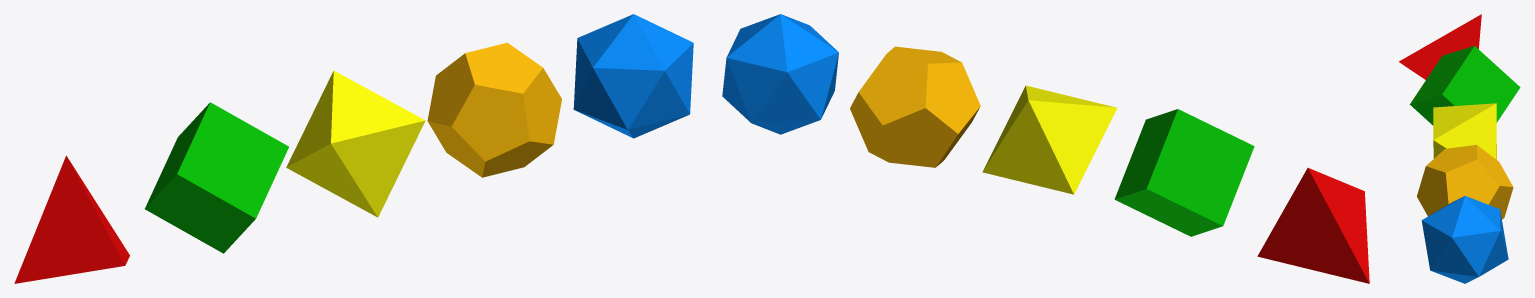
The model's file is Solides de platon.glb.
3 views of the same model, side by side, from view 1: azimuth 30°, elevation 25°; view 2: azimuth 150°, elevation 25°; view 3: azimuth 270°, elevation 25° (orthographic). The views are drawn at different scales.
Parts seen in each view (by area): view 1: Solid, Cube, Icosphere, Cone.003, Cone; view 2: Cube, Solid, Icosphere, Cone.003, Cone; view 3: Icosphere, Cube, Solid, Cone.003, Cone.
Boxes of the visible parts, x1,y1,x2,y2 form: Solid: (427, 42, 561, 177); Cube: (145, 102, 288, 253); Icosphere: (573, 14, 693, 138); Cone.003: (286, 70, 425, 217); Cone: (14, 155, 129, 283); Cube: (1114, 109, 1254, 236); Solid: (850, 46, 980, 167); Icosphere: (722, 14, 838, 134); Cone.003: (982, 85, 1117, 194); Cone: (1257, 168, 1369, 283); Icosphere: (1421, 196, 1508, 283); Cube: (1410, 46, 1520, 125); Solid: (1417, 144, 1513, 219); Cone.003: (1433, 103, 1496, 159); Cone: (1399, 14, 1481, 79).
Bounding box in the file's own units: 16.74 × 3.41 × 3.76.
